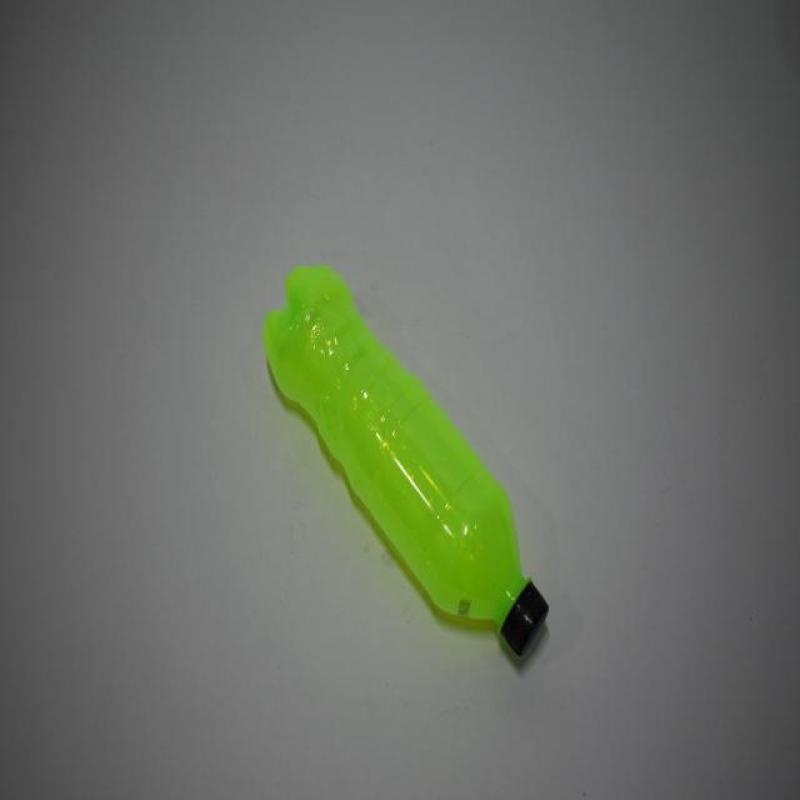botella: (258, 260, 548, 656)
